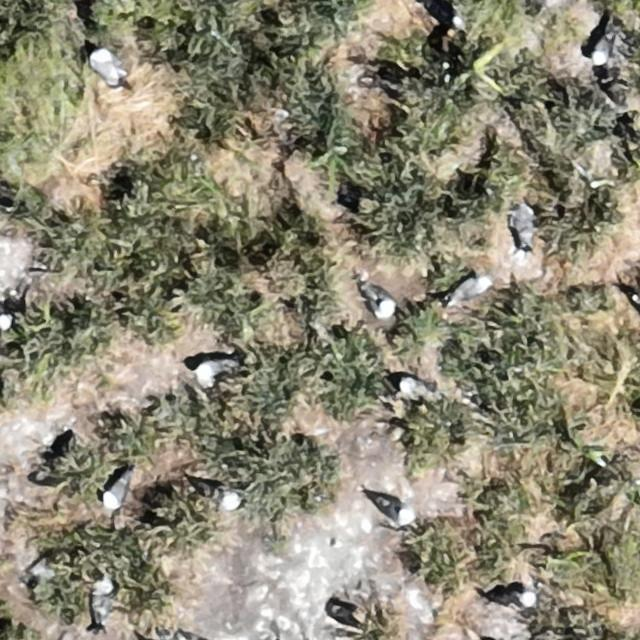umineko: (328, 598, 365, 628), (90, 51, 121, 84), (450, 278, 489, 302), (92, 580, 113, 624), (364, 287, 394, 317), (377, 498, 411, 524), (398, 377, 433, 401), (105, 477, 129, 508), (516, 215, 535, 251), (195, 360, 228, 380), (219, 491, 241, 512), (512, 589, 536, 607), (594, 36, 610, 63), (0, 309, 11, 331)
